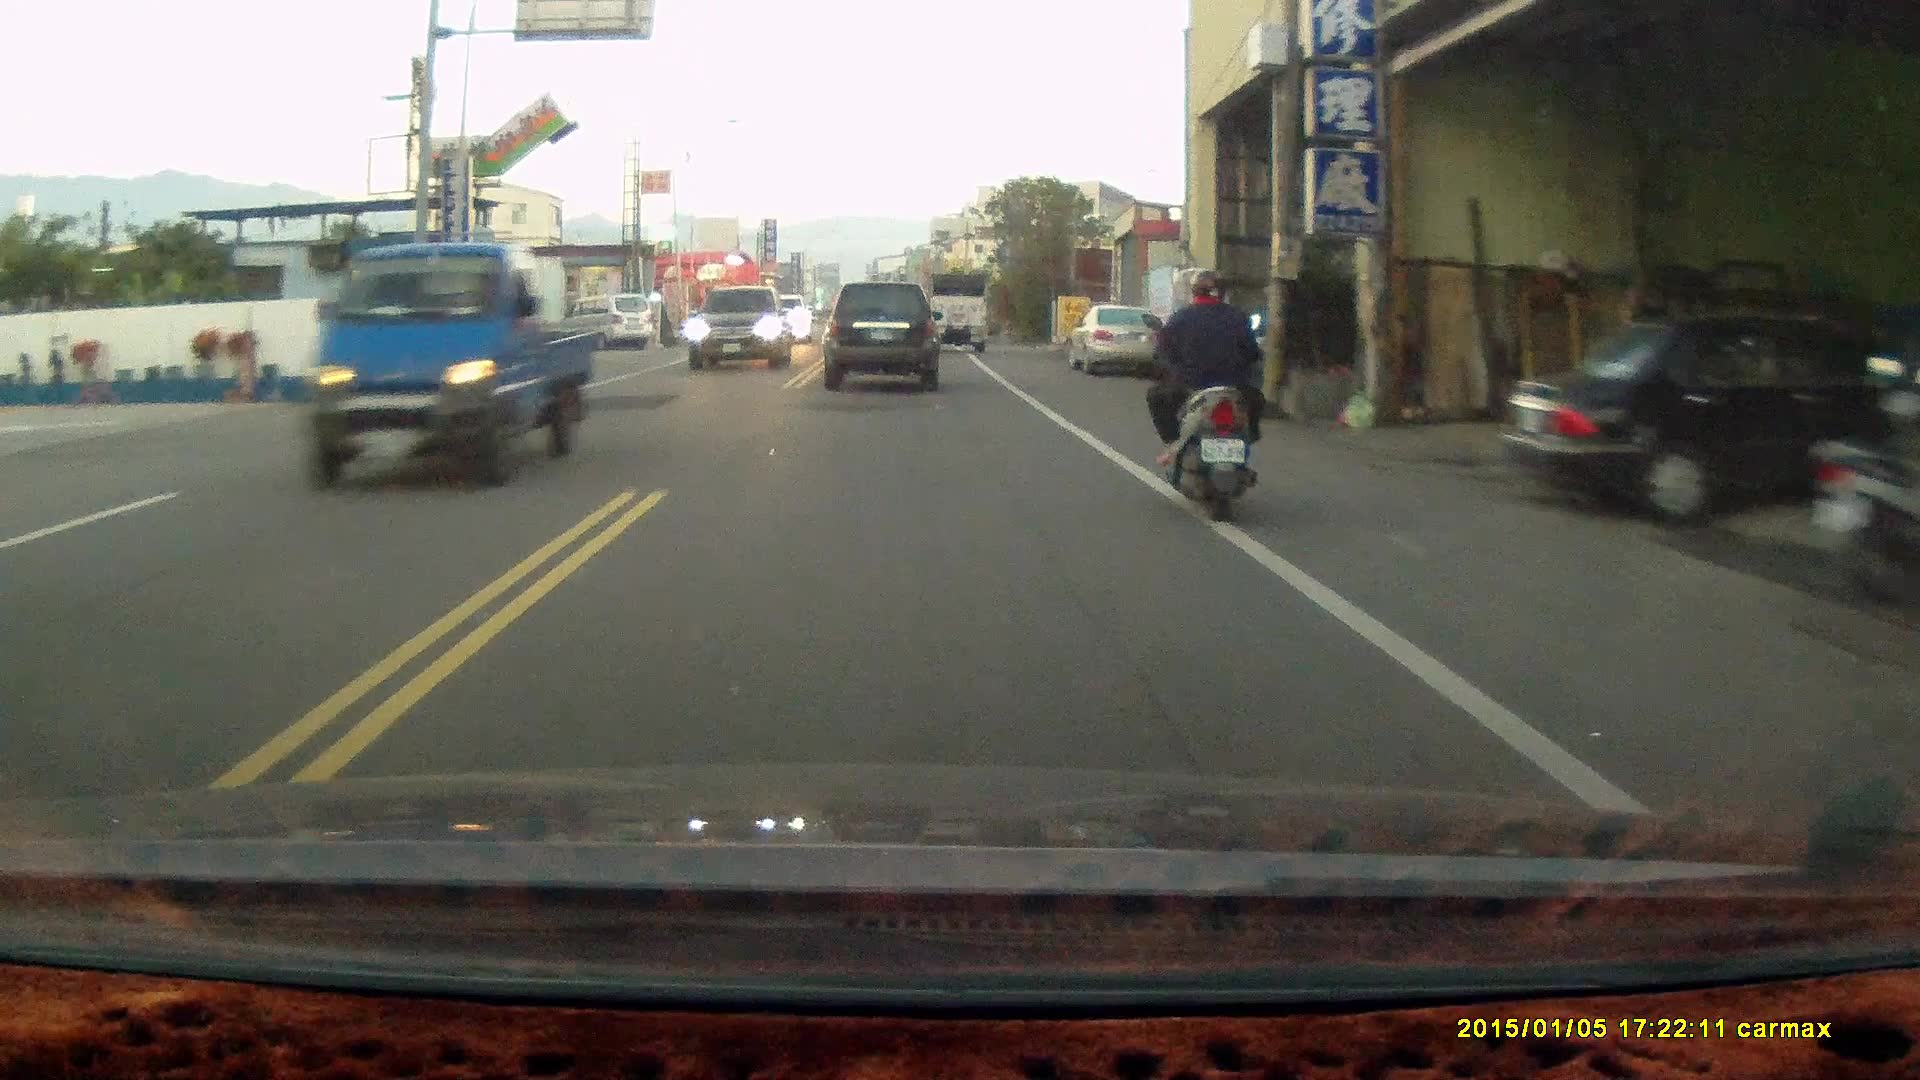rider: (1138, 262, 1266, 524)
vehicle: (1502, 304, 1913, 532), (298, 244, 601, 490), (825, 280, 942, 393), (692, 282, 799, 368), (1071, 305, 1161, 379), (925, 270, 995, 352), (561, 291, 655, 350)
